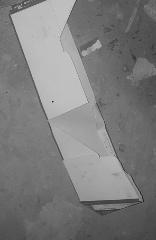paper: (48, 102, 144, 214), (126, 57, 156, 84), (80, 38, 102, 58)
